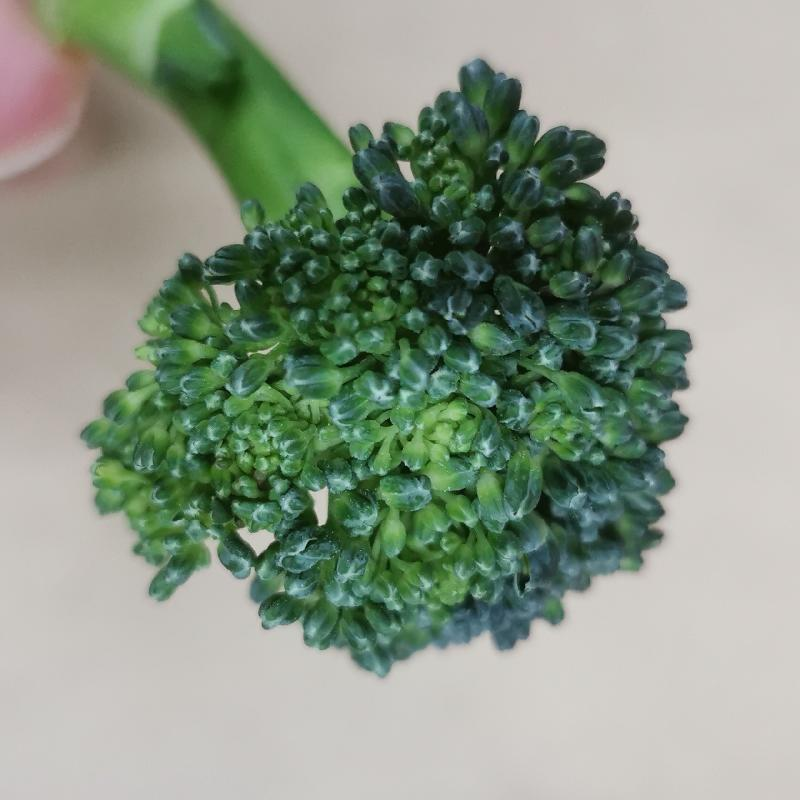broccoli: (19, 5, 687, 673)
